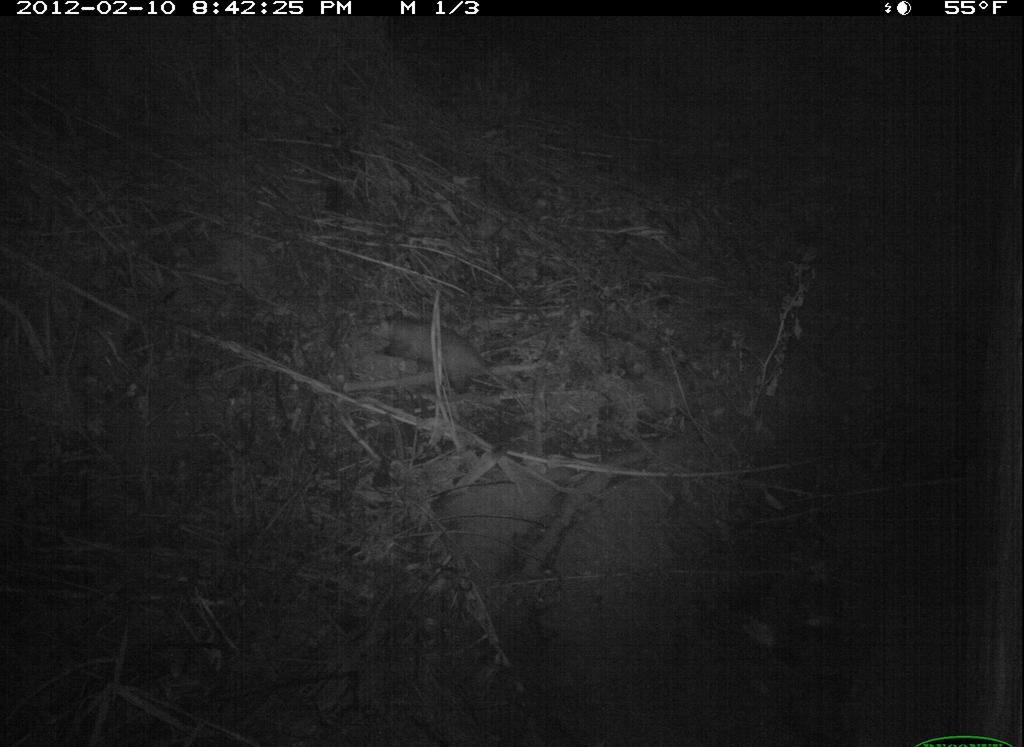opossum: (363, 310, 543, 422)
